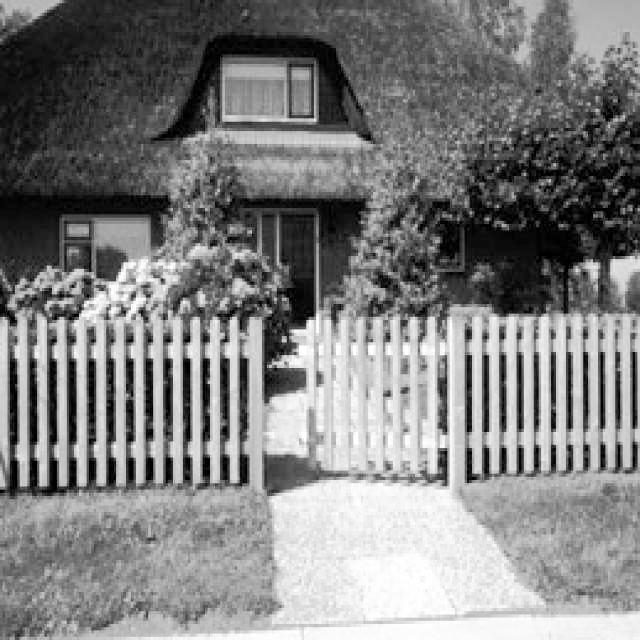fences: (325, 324, 640, 474), (6, 321, 264, 497)
